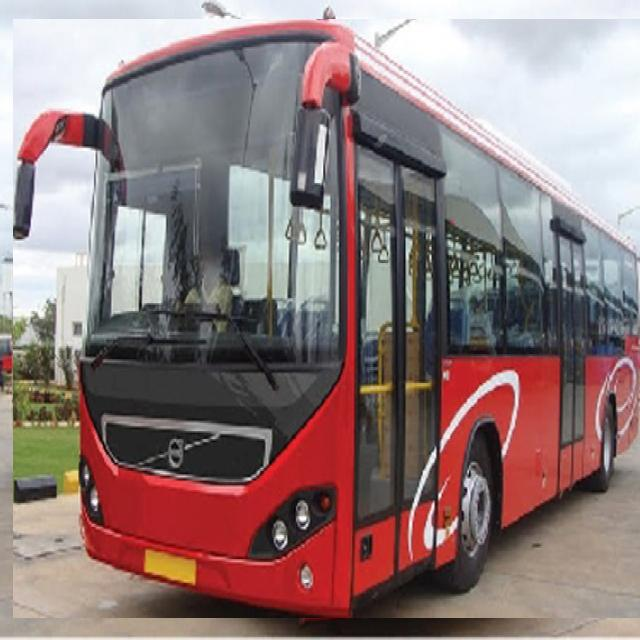bus: (13, 19, 640, 618)
